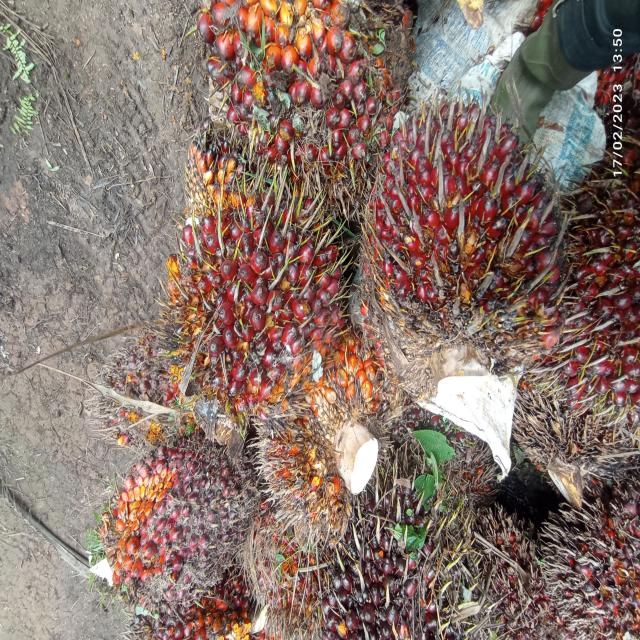fraksi 1: (89, 444, 264, 610)
fraksi 3: (362, 84, 554, 396), (158, 186, 352, 438), (194, 2, 411, 186)
